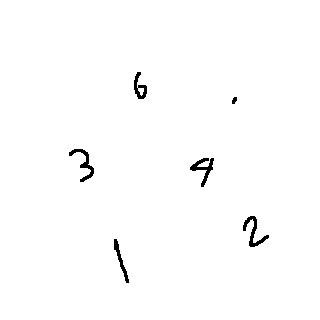.: (230, 91, 239, 113)
1: (106, 235, 140, 286)
2: (238, 210, 277, 251)
3: (68, 146, 99, 184)
4: (184, 149, 225, 194)
6: (121, 67, 163, 105)
